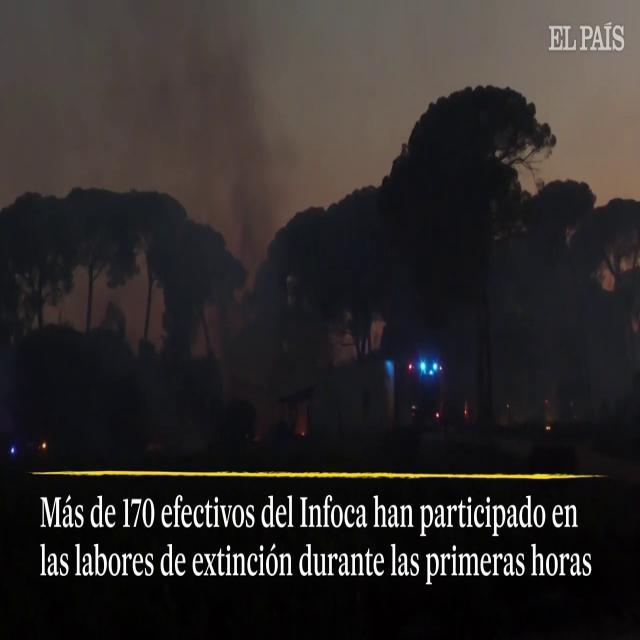Smoke: (162, 6, 313, 403)
